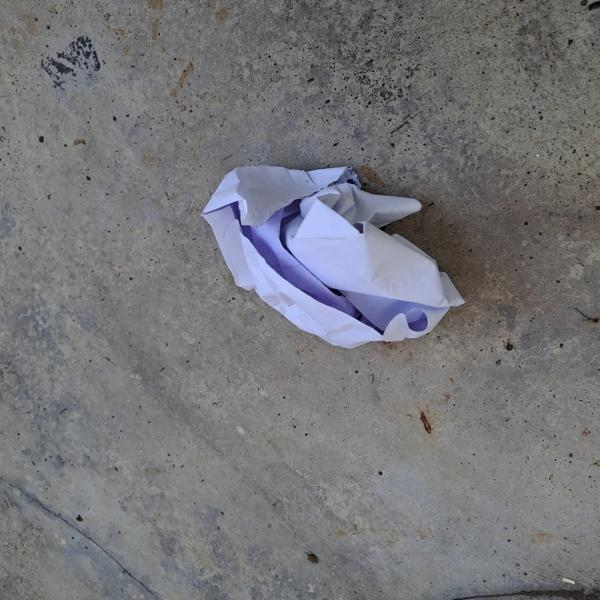Organik: (196, 137, 471, 357)
